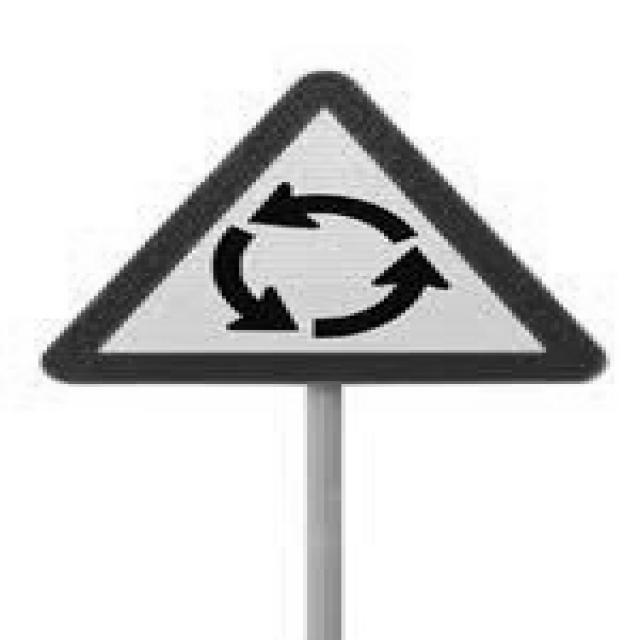roundabout: (43, 67, 609, 394)
